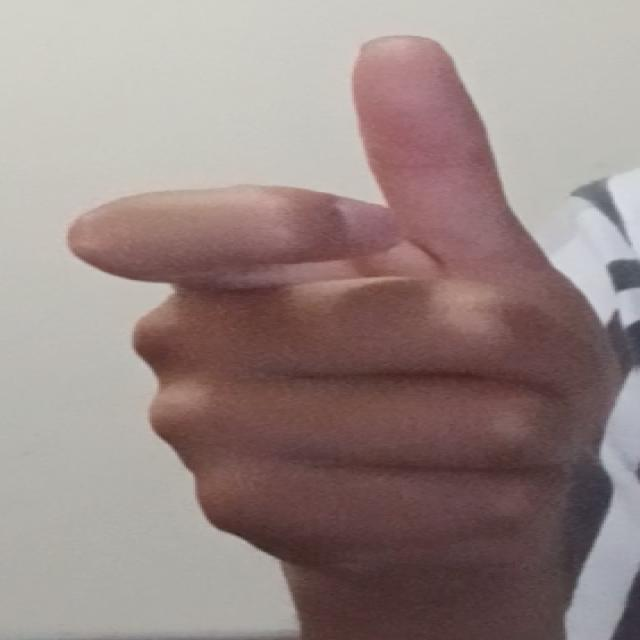Q: (44, 19, 628, 586)
